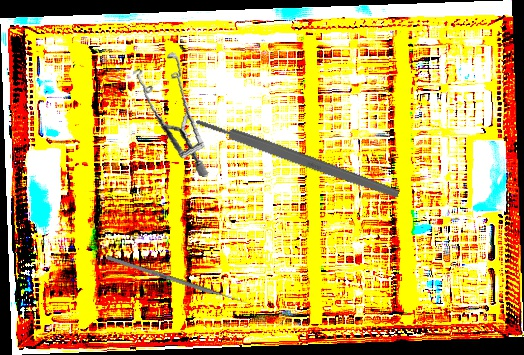Pusher: (105, 255, 250, 306)
Scalpel Handle: (194, 114, 401, 201)
Speculum: (118, 46, 226, 178)
